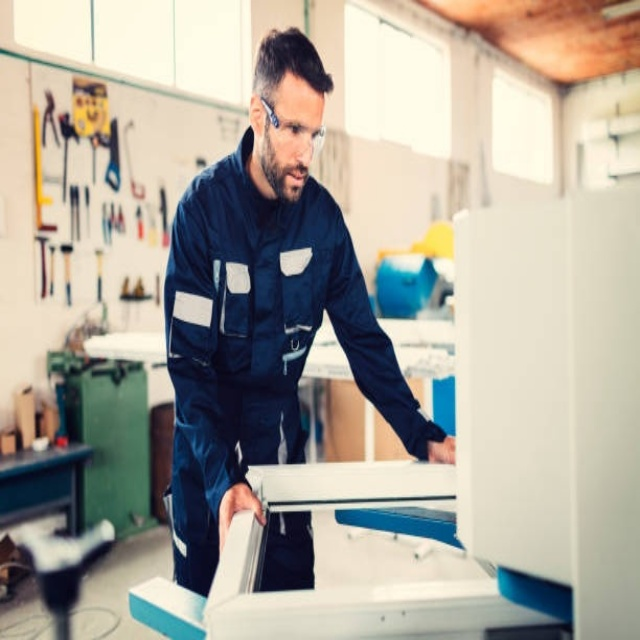Gafas: (259, 95, 326, 163)
Sin_guantes: (214, 475, 268, 557)
Sin_mascara: (280, 166, 308, 199)
